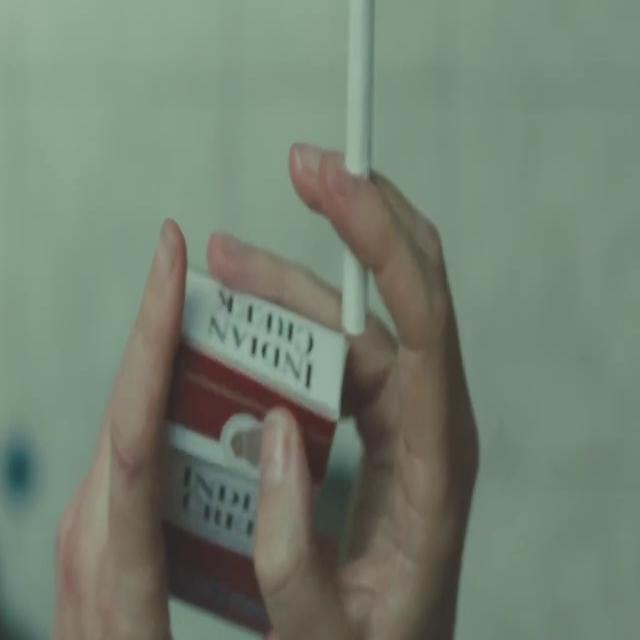Smooking: (344, 6, 372, 362)
